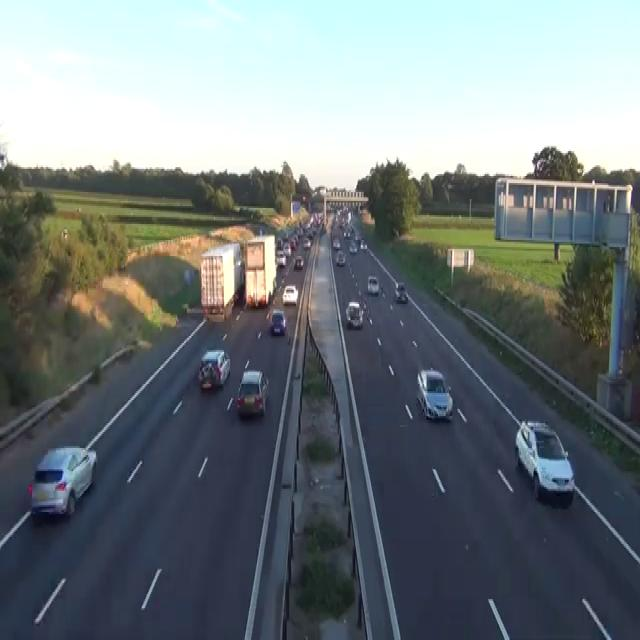Car: (514, 419, 575, 506), (27, 445, 97, 519), (416, 368, 453, 421), (236, 370, 269, 416), (198, 348, 230, 389), (345, 300, 363, 329), (198, 361, 215, 389), (200, 348, 225, 366), (270, 310, 286, 334), (282, 284, 298, 304), (394, 281, 407, 302), (367, 276, 379, 295), (275, 249, 286, 267), (335, 249, 346, 265), (343, 224, 353, 238), (294, 254, 303, 268), (283, 242, 291, 256), (395, 281, 404, 293), (332, 236, 340, 249), (302, 236, 310, 249), (60, 228, 68, 240), (349, 242, 357, 252), (290, 236, 296, 249), (355, 231, 362, 242), (276, 238, 283, 249), (360, 240, 367, 249)
Truck: (199, 240, 244, 322), (244, 233, 276, 307)
